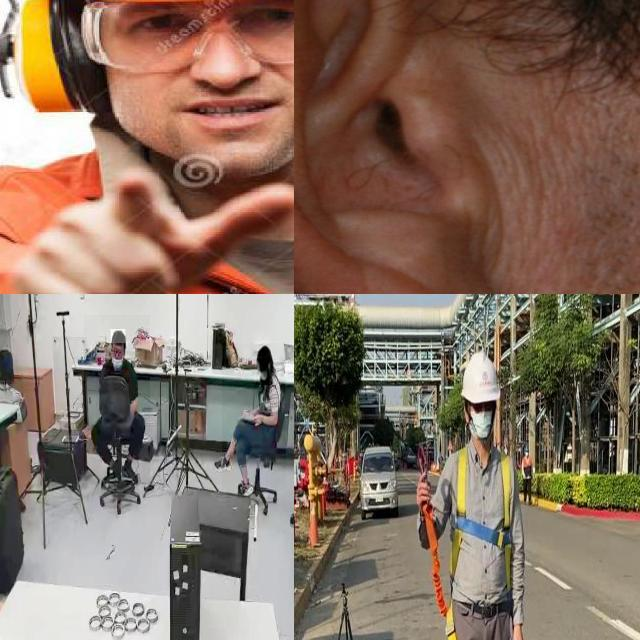Ear-protection: (0, 0, 294, 119)
Harness: (453, 447, 514, 600), (422, 504, 458, 640)
No_Ear-Protection: (294, 0, 520, 294)
face_mask: (256, 358, 270, 385), (110, 348, 124, 374)
glasses: (59, 0, 294, 85)
hand_noglove: (251, 412, 264, 426)
head_nohelmet: (110, 329, 126, 344), (256, 345, 272, 357)
person: (0, 0, 294, 294), (84, 315, 150, 485), (222, 343, 286, 492)
shoes: (213, 450, 233, 476), (122, 455, 140, 483)
